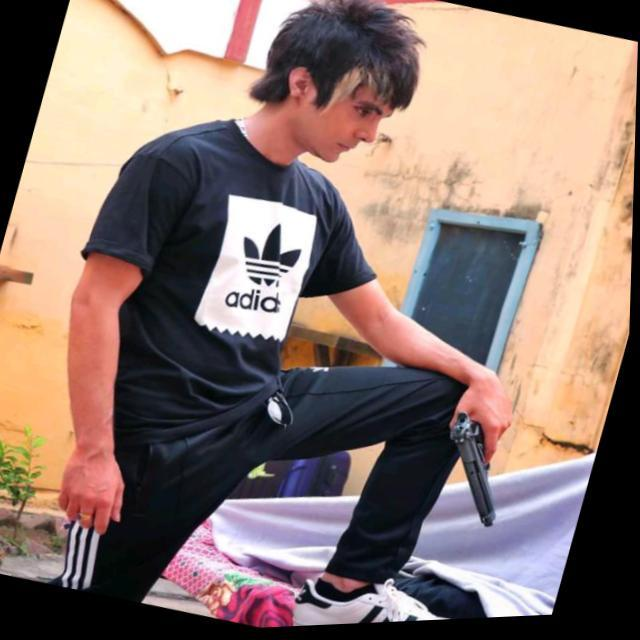weapon: (420, 397, 537, 541)
